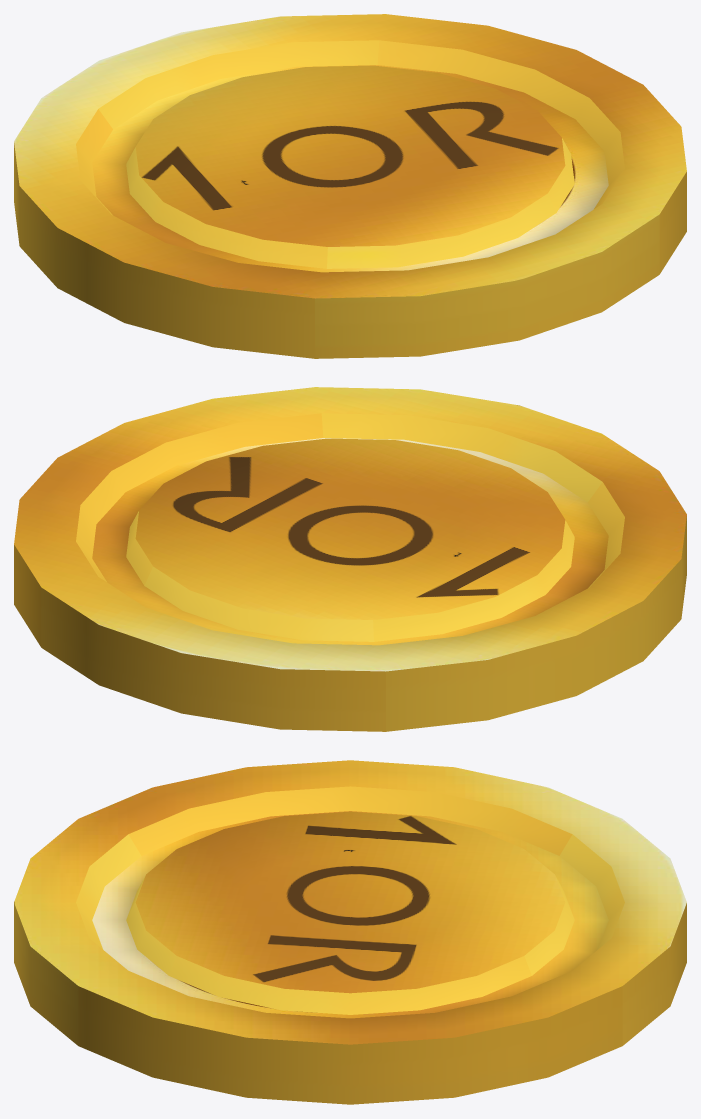
File: coins R10.fbx
3 renders of one model, top to bottom at view 1: azimuth 30°, elevation 25°; view 2: azimuth 150°, elevation 25°; view 3: azimuth 270°, elevation 25°, orthographic.
Parts seen in each view (by area): view 1: pCylinder1; view 2: pCylinder1; view 3: pCylinder1.
Boxes of the visible parts, x1,y1,x2,y2 form: pCylinder1: [14, 14, 686, 358]; pCylinder1: [14, 387, 686, 731]; pCylinder1: [14, 760, 686, 1104].
Bounding box in the file's own units: 2.99 × 0.2943 × 2.99.
